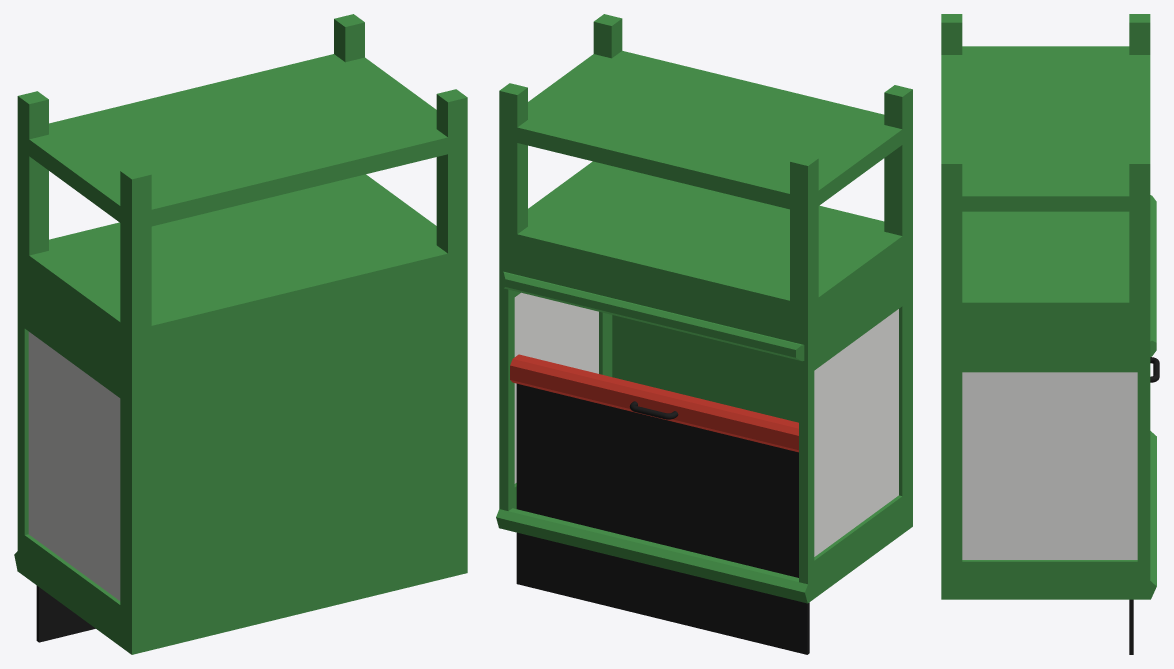
File: FumeHood .fbx
The picture shows the model from 3 angles, left to right: view 1: azimuth 30°, elevation 25°; view 2: azimuth 150°, elevation 25°; view 3: azimuth 270°, elevation 25°; orthographic projection. The views are drawn at different scales.
Parts seen in each view (by area): view 1: Body1 (×2); view 2: Body1 (×2); view 3: Body1 (×2).
Boxes of the visible parts, box(x1,y1,x2,y2) form: Body1 (×2): box(14, 14, 467, 654); Body1 (×2): box(496, 14, 912, 654); Body1 (×2): box(941, 14, 1159, 654).
Bounding box in the file's own units: 1700 × 2615 × 1044.
